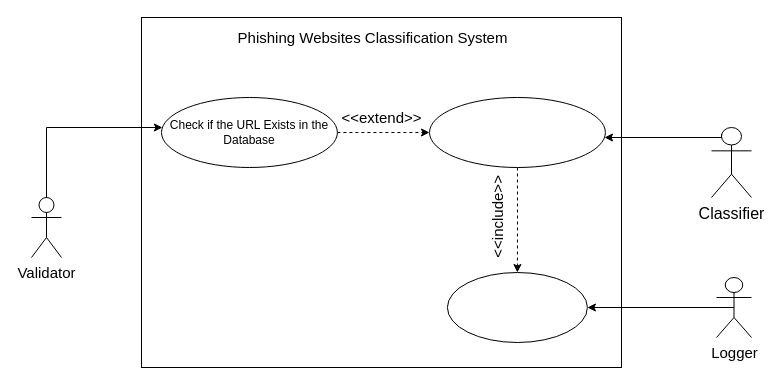
Some shapes in this 781 by 385 pixel diagram are drawn without their labels. The centre of each missing label's shape, as x and y in pixels:
"Classify URL" goes at pixel 516 132.
"Save result" goes at pixel 516 307.
